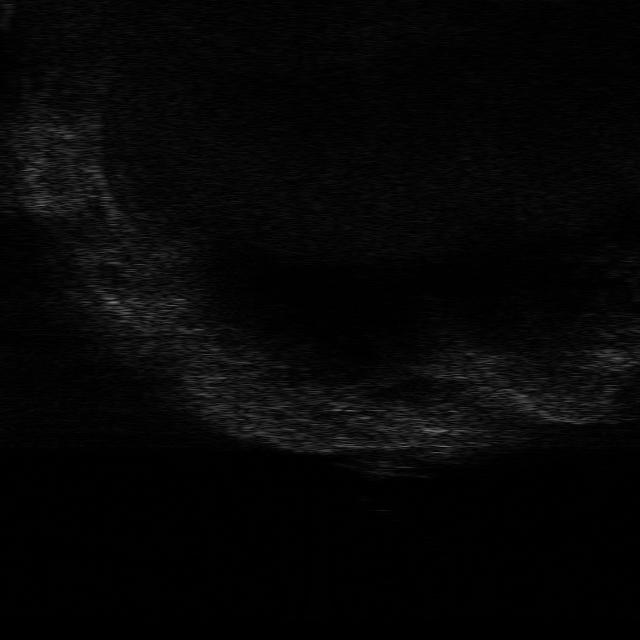plane: (342, 456, 428, 479)
